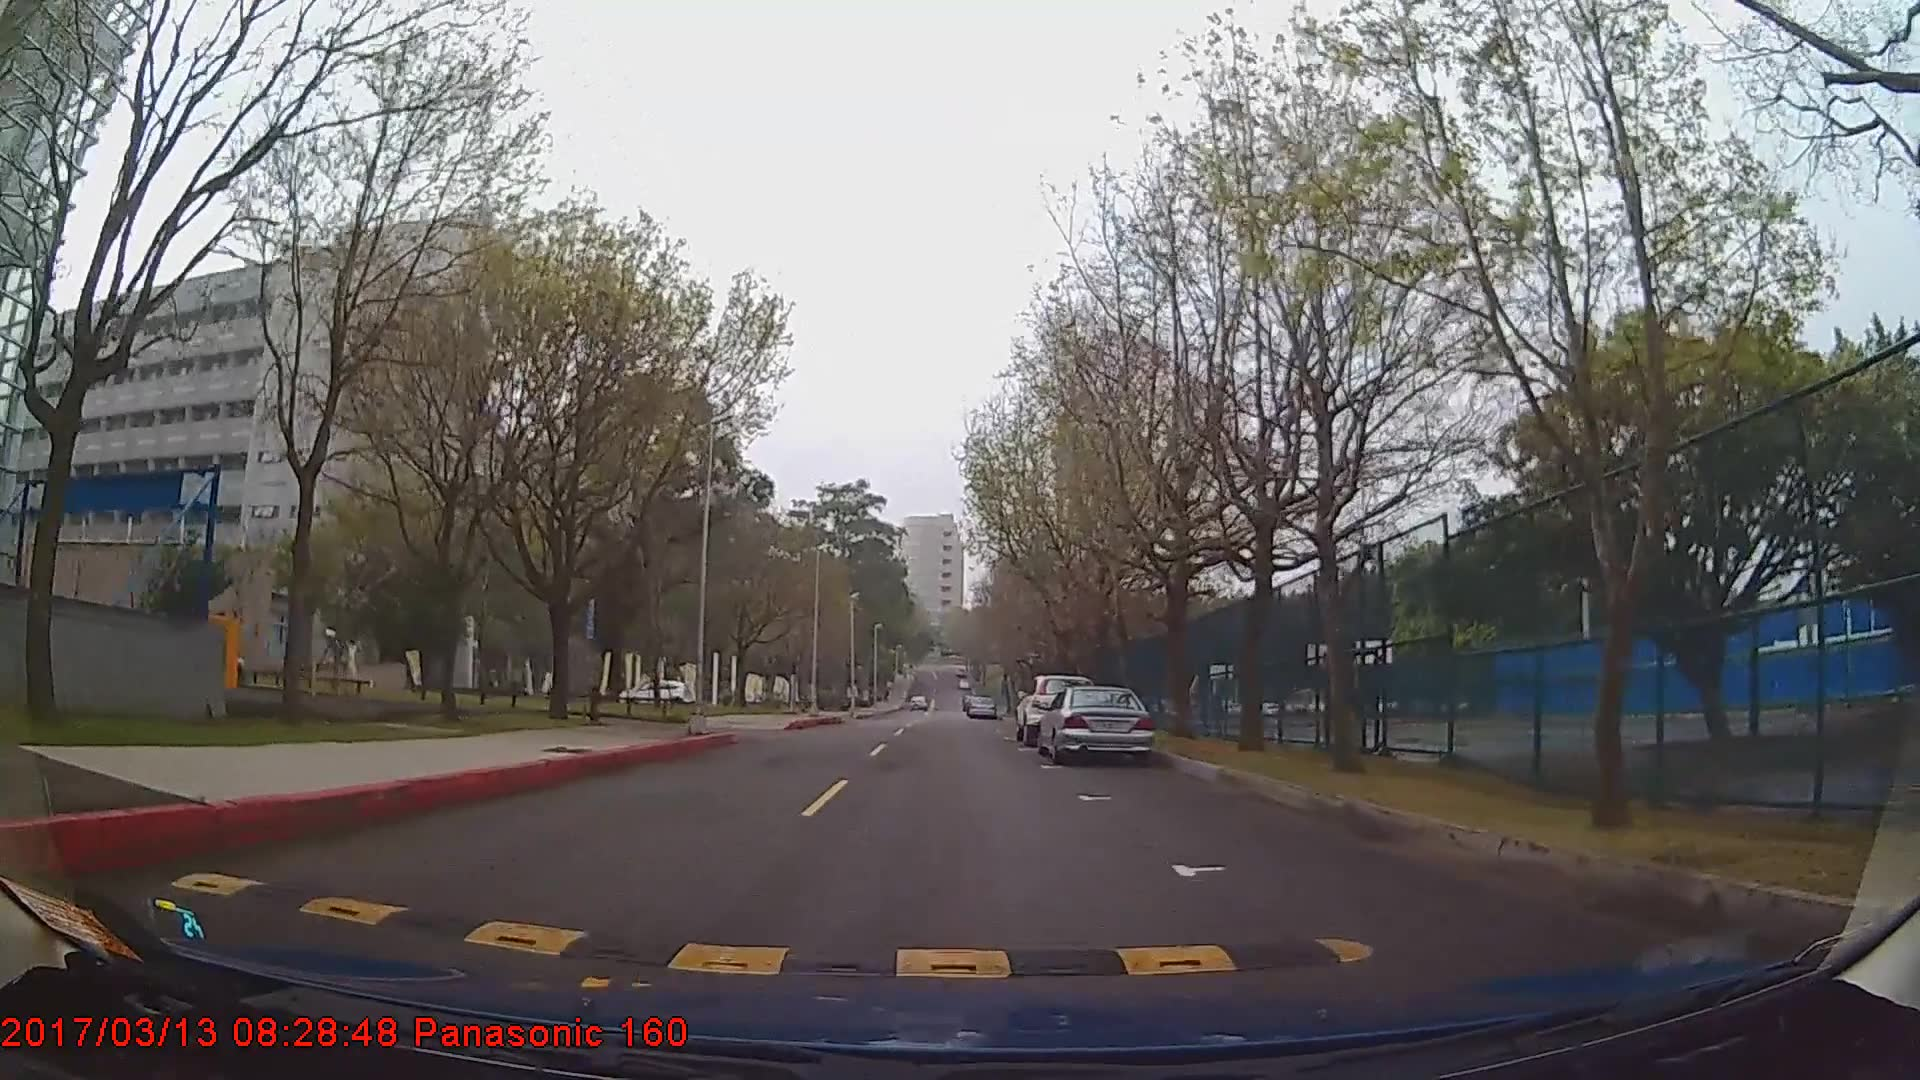vehicle: (1036, 682, 1155, 764), (1015, 673, 1097, 746), (965, 695, 996, 717)
